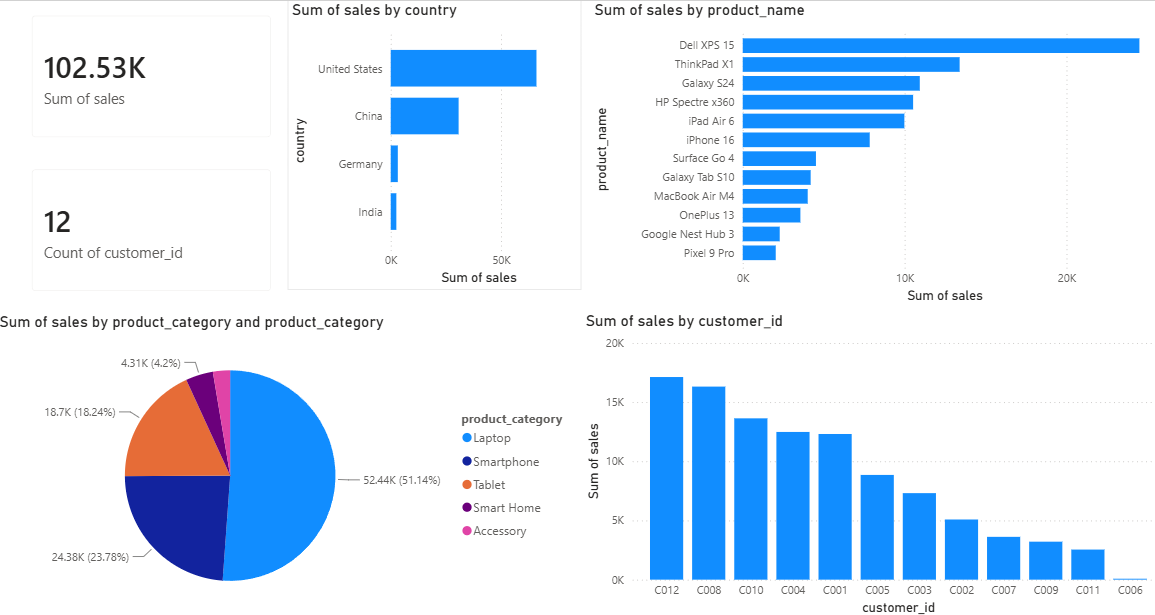

Layout of this report page (visuals, bound fields, positions):
{"tool":"powerbi","page":{"name":"Page 1","canvas":[1280,720],"ordinal":0},"visuals":[{"type":"pieChart","fields":{"Category":["orders csv.product_category"],"Series":["orders csv.product_category"],"Y":["Sum(orders csv.sales)"]},"box":[0,384.5,639.5,335.4],"z":0},{"type":"columnChart","fields":{"Y":["Sum(orders csv.sales)"],"Category":["orders csv.customer_id"]},"box":[639.5,383.1,640.8,336.8],"z":1000},{"type":"barChart","fields":{"Category":["orders csv.product_name"],"Y":["Sum(orders csv.sales)"]},"box":[649,43.6,631.3,335.4],"z":2000},{"type":"cardVisual","fields":{"Data":["Sum(orders csv.sales)"]},"box":[23.2,43.6,295.9,167.7],"z":3000},{"type":"cardVisual","fields":{"Data":["Count(orders csv.customer_id)"]},"box":[23.2,211.3,295.9,167.7],"z":4000},{"type":"barChart","fields":{"Category":["customers csv.country"],"Y":["Sum(orders csv.sales)"]},"box":[319,43.6,320.4,316.3],"z":5000}]}

Visuals, with their boxes on the page's 1280x720 design canvas (x1, y1, x2, y2). These are canvas units, not pixel positions in the 1155x615 screenshot, which may show the page scaled, cropped or inside an application window:
pieChart - orders csv.product_category x orders csv.product_category: l=0, t=384, r=640, b=720
columnChart - Sum(orders csv.sales) x orders csv.customer_id: l=640, t=383, r=1280, b=720
barChart - orders csv.product_name x Sum(orders csv.sales): l=649, t=44, r=1280, b=379
cardVisual - Sum(orders csv.sales): l=23, t=44, r=319, b=211
cardVisual - Count(orders csv.customer_id): l=23, t=211, r=319, b=379
barChart - customers csv.country x Sum(orders csv.sales): l=319, t=44, r=639, b=360
